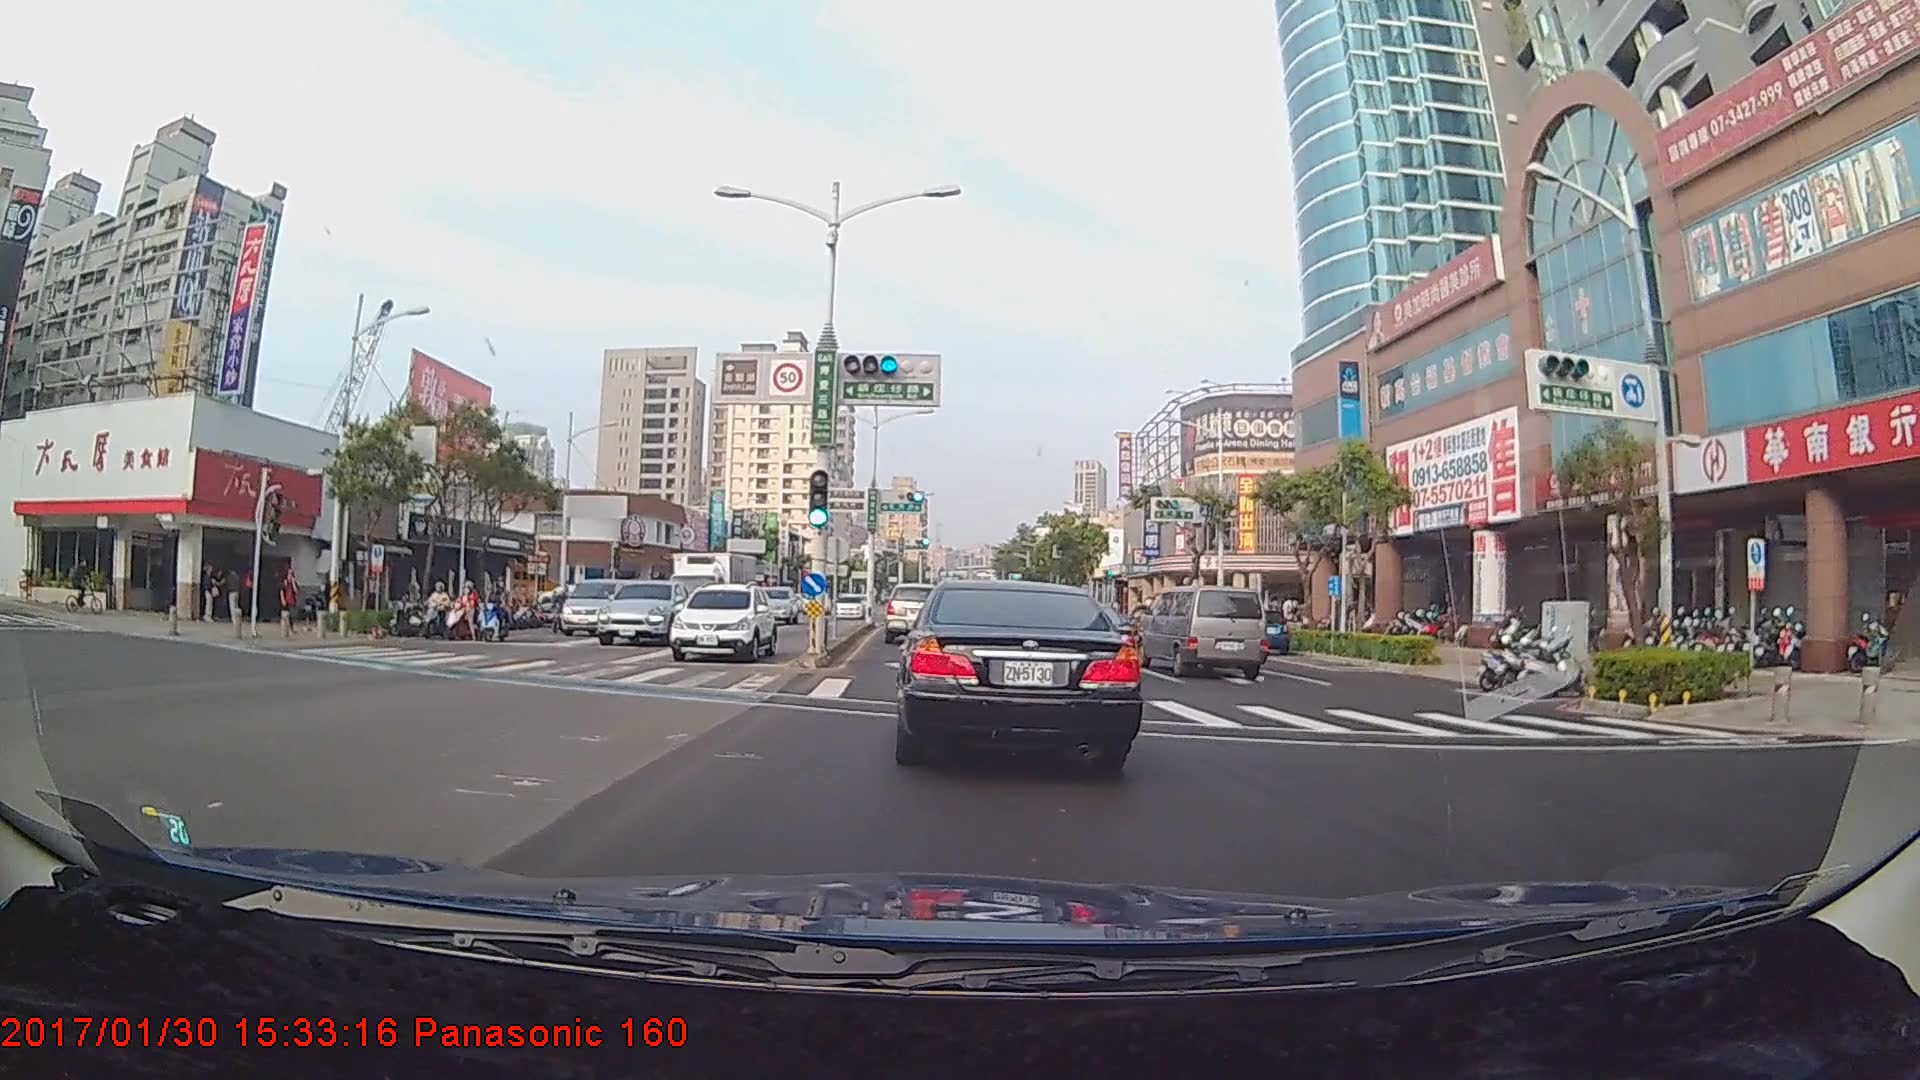pedestrian: (202, 563, 225, 629), (221, 566, 246, 627), (278, 571, 299, 634)
rider: (441, 580, 485, 643), (472, 584, 519, 644), (412, 582, 454, 645), (61, 557, 106, 615)
vehicle: (894, 574, 1138, 769), (1141, 582, 1272, 679), (662, 547, 757, 636), (669, 584, 777, 661), (596, 581, 683, 647), (882, 578, 941, 644), (1224, 604, 1293, 655), (563, 577, 627, 633), (757, 585, 794, 624), (832, 591, 859, 617)
